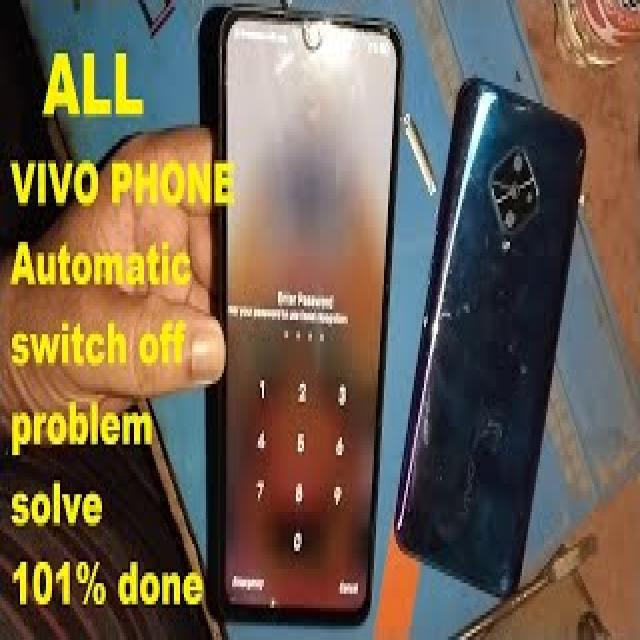mobile phone: (196, 4, 404, 622), (392, 71, 586, 597)
